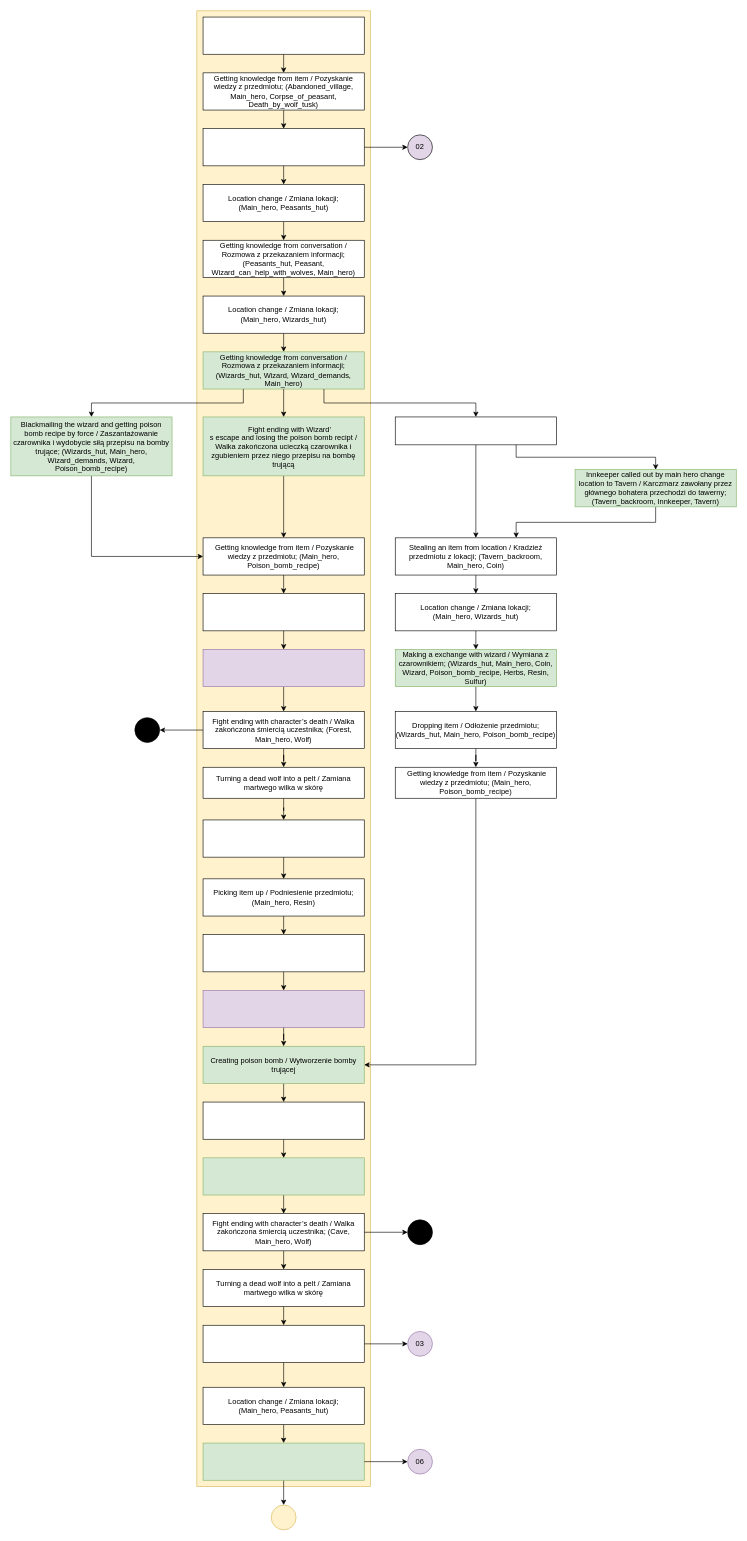
This 747x1541 diagram has some shape labels left out. Here are the shapes that lost their labels. From the top down, the centre of each, then its label:
At (x=283, y=35): "Location change / Zmiana lokacji; (Main_hero, Abandoned_village)".
At (x=283, y=147): "Picking item up / Podniesienie przedmiotu; (Main_hero, Torch)".
At (x=475, y=430): "Location change / Zmiana lokacji; (Main_hero, Tavern_backroom )".
At (x=283, y=612): "Location change / Zmiana lokacji; (Main_hero, Forest)".
At (x=283, y=668): "Wilk atakuje gracza".
At (x=283, y=838): "Picking item up / Podniesienie przedmiotu; (Forest, Main_hero, Herbs)".
At (x=283, y=953): "Picking item up / Podniesienie przedmiotu; (Main_hero, Sulfur)".
At (x=283, y=1009): "Bohater posiada: Herbs, Resin, Sulfur".
At (x=283, y=1120): "Location change / Zmiana lokacji; (Main_hero, Cave)".
At (x=283, y=1176): "Poisoning wolf / Otrucie wilka".
At (x=283, y=1343): "Picking item up / Podniesienie przedmiotu; (Cave, Main_hero, Wolf_pelt)".
At (x=283, y=1461): "Collecting a reward from Peasant / Odebranie nagrody od wieśniaka".
